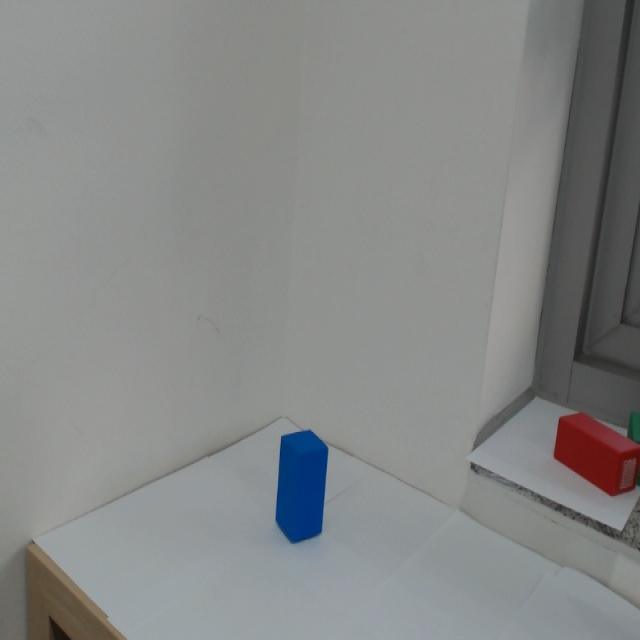cube: (276, 410, 335, 553)
